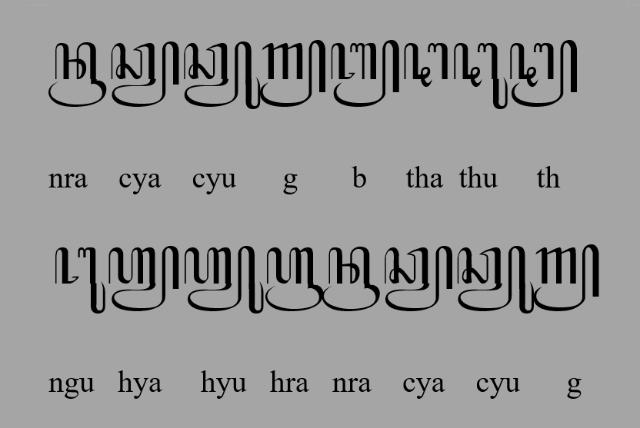-b: (330, 40, 400, 108)
-g: (260, 39, 326, 107), (534, 244, 600, 312)
-th: (509, 40, 577, 108)
cy: (384, 245, 454, 313), (110, 40, 180, 107)
cyu: (183, 40, 261, 110), (458, 245, 534, 314)
hr: (264, 248, 324, 312)
hy: (109, 246, 180, 312)
hyu: (183, 245, 265, 314)
ngu: (54, 246, 106, 314)
nr: (48, 41, 108, 107), (322, 246, 380, 312)
th: (404, 41, 448, 87)
thu: (452, 42, 508, 110)
